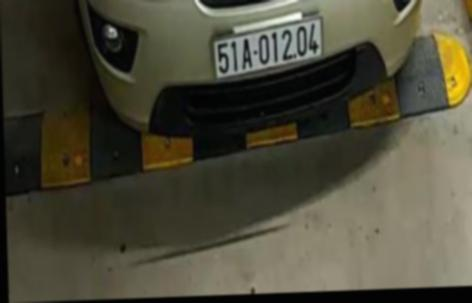License_Plate: (213, 20, 332, 76)
